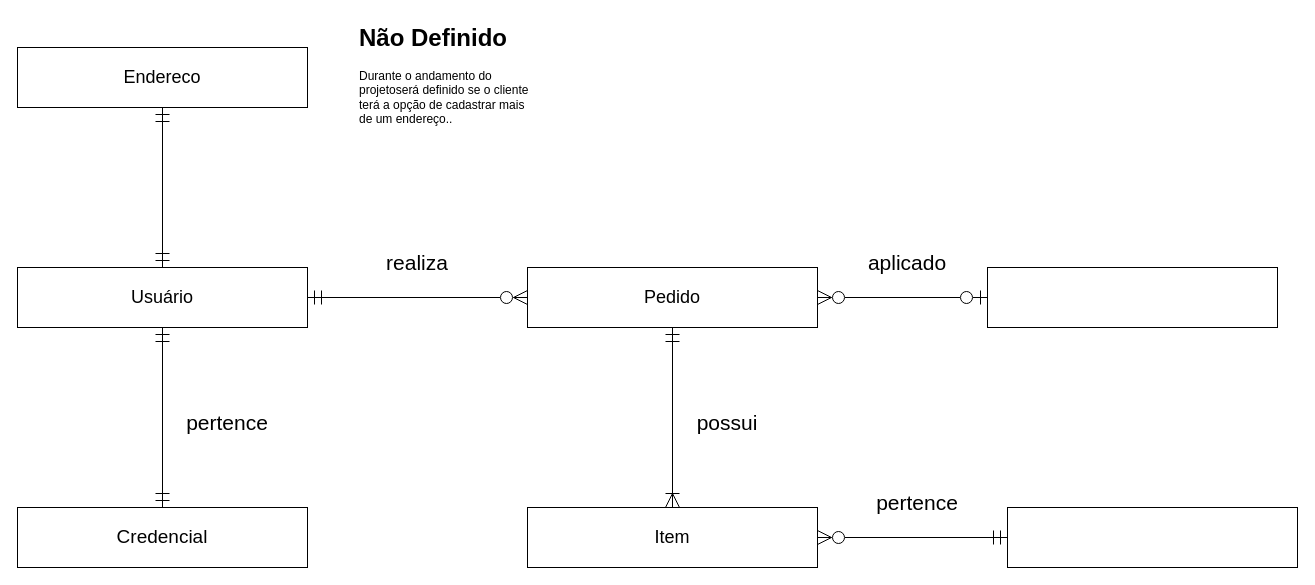
Some shapes in this 1315 by 585 pixel diagram are drawn without their labels. Each missing label, with the centre of its shape:
"Cupom" goes at pixel 1132 297.
"Produto" goes at pixel 1152 537.
